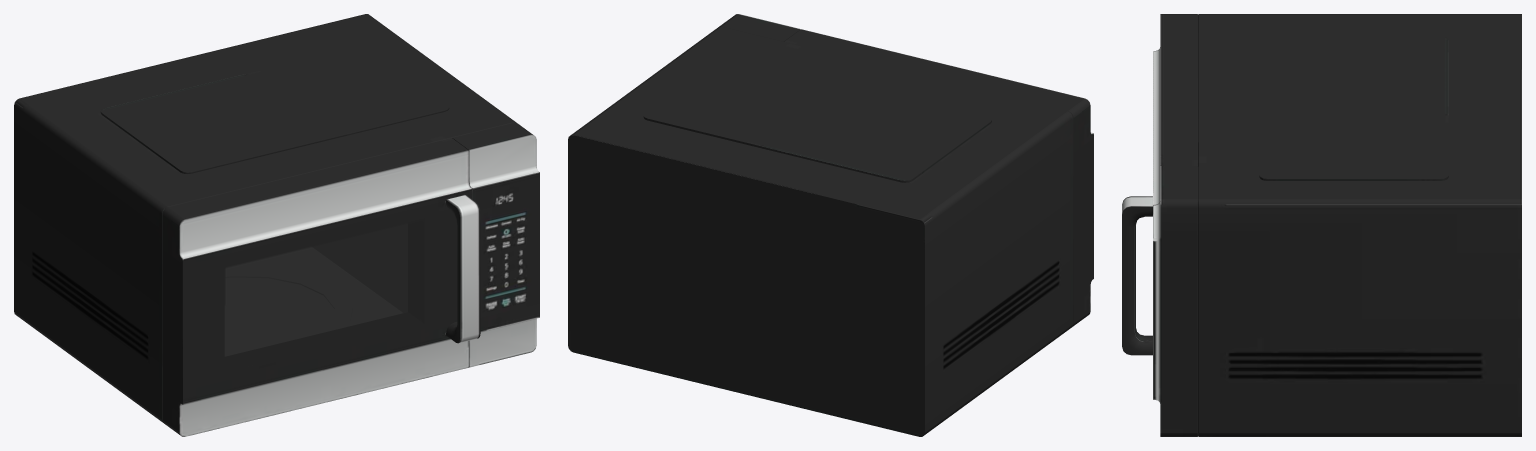
Rendered from microwave_oven.glb.
The picture shows the model from 3 angles, left to right: view 1: azimuth 30°, elevation 25°; view 2: azimuth 150°, elevation 25°; view 3: azimuth 270°, elevation 25°; orthographic projection. The views are drawn at different scales.
Parts seen in each view (by area): view 1: defaultMaterial; view 2: defaultMaterial; view 3: defaultMaterial.
Boxes of the visible parts, left/top/right/bottom form: defaultMaterial: left=14, top=14, right=539, bottom=436; defaultMaterial: left=568, top=14, right=1093, bottom=436; defaultMaterial: left=1122, top=14, right=1521, bottom=436.
Bounding box in the file's own units: 55 × 34.23 × 48.84.
1 material, 1 textured.
